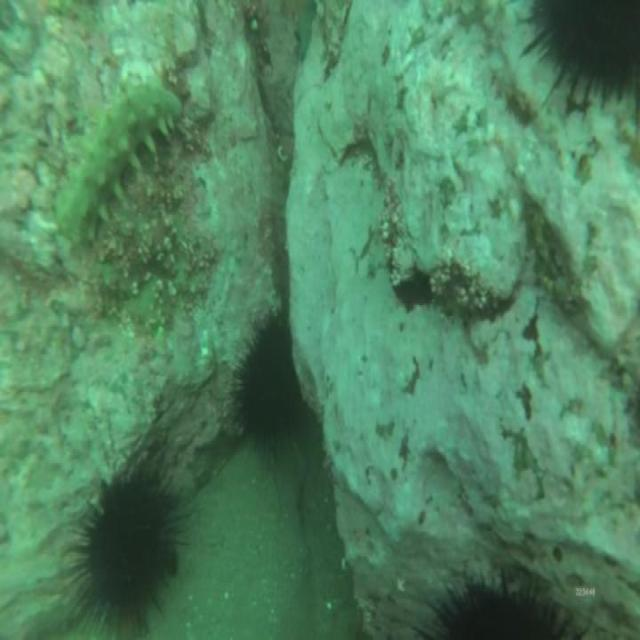echinus: (84, 482, 172, 621), (531, 1, 640, 90), (237, 326, 296, 450)
holothurian: (58, 88, 180, 245)
